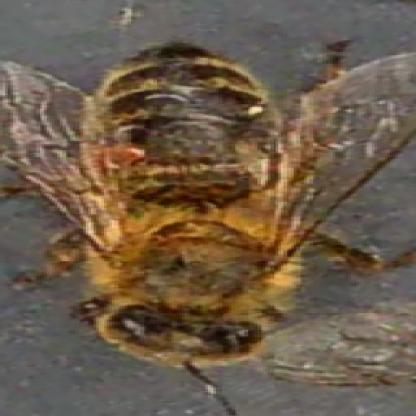bee: (58, 47, 318, 368)
vaoora: (101, 148, 144, 169)
